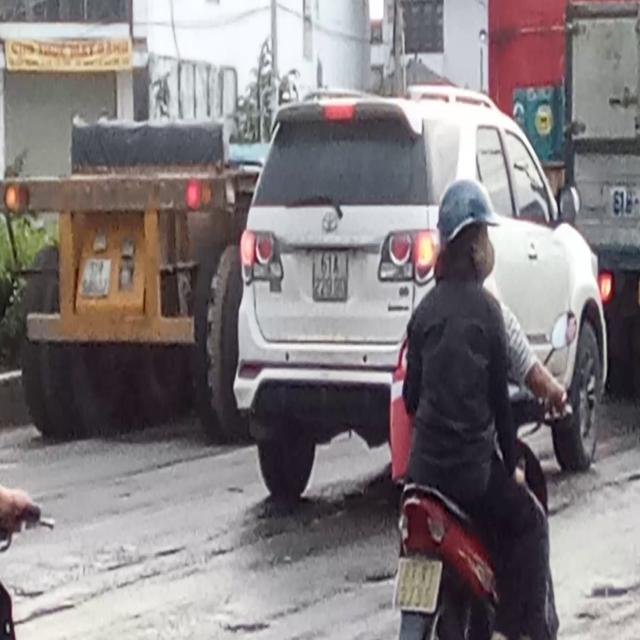bien_trang: (392, 549, 442, 619), (311, 247, 352, 307)
